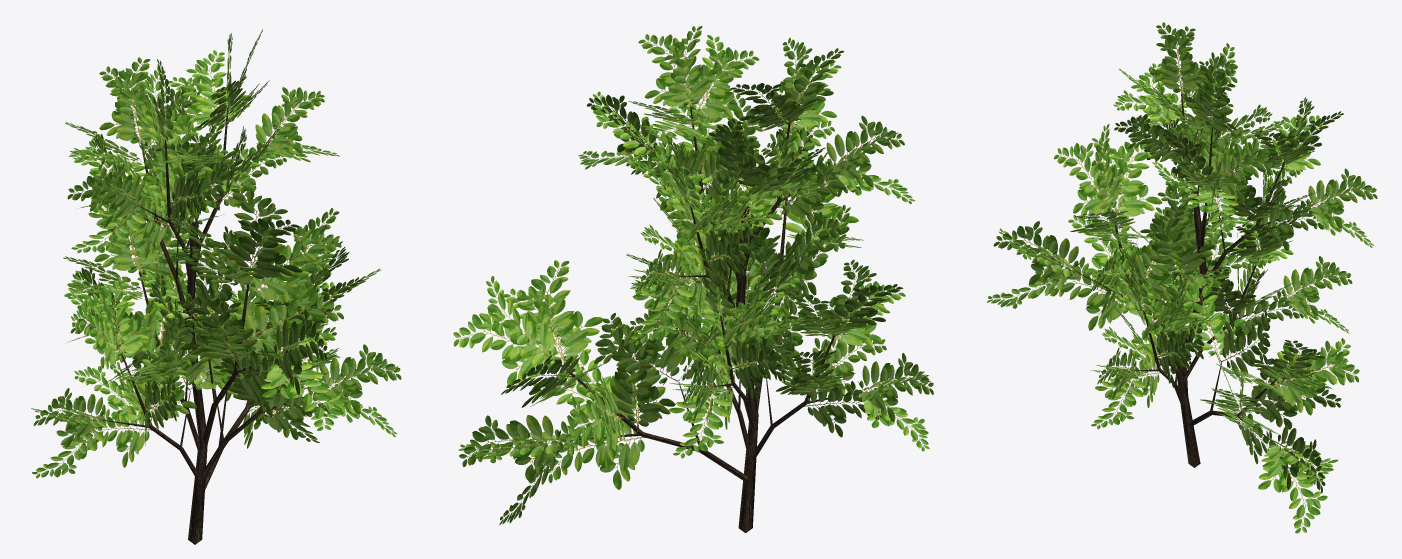
Rendered from small tree1.FBX.
3 renders of one model, left to right at view 1: azimuth 30°, elevation 25°; view 2: azimuth 150°, elevation 25°; view 3: azimuth 270°, elevation 25°, orthographic. The views are drawn at different scales.
Parts seen in each view (by area): view 1: Cylinder001; view 2: Cylinder001; view 3: Cylinder001.
Boxes of the visible parts, bbox=[...] form: Cylinder001: bbox=[31, 29, 401, 544]; Cylinder001: bbox=[453, 26, 933, 533]; Cylinder001: bbox=[986, 22, 1377, 533].
Bounding box in the file's own units: 9.36 × 10.66 × 9.35.
